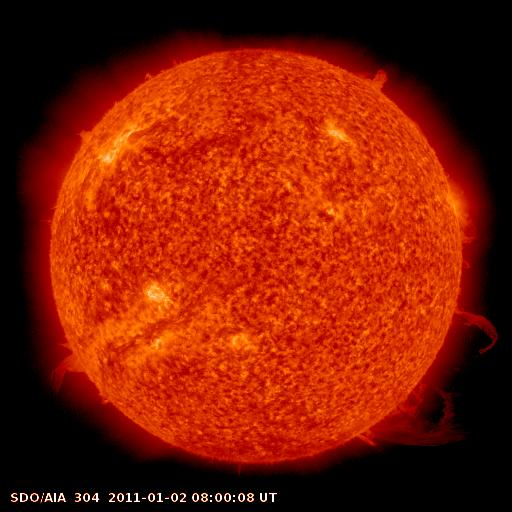prominence: (348, 378, 473, 456), (26, 337, 118, 416), (434, 294, 508, 361), (351, 56, 399, 100), (57, 114, 108, 152), (133, 58, 190, 82)
